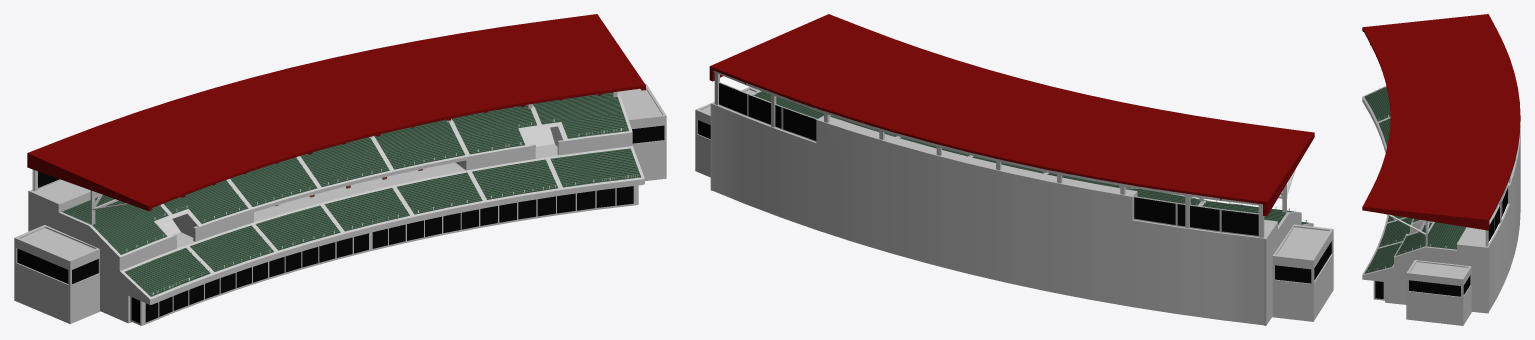
Rendered from Mini_stadium.fbx.
The picture shows the model from 3 angles, left to right: view 1: azimuth 30°, elevation 25°; view 2: azimuth 150°, elevation 25°; view 3: azimuth 270°, elevation 25°; orthographic projection. The views are drawn at different scales.
Visible parts, largest first — view 1: mini_stadium; view 2: mini_stadium; view 3: mini_stadium.
Boxes of the visible parts, <box> form: mini_stadium: <box>14,14,666,325</box>; mini_stadium: <box>695,14,1333,325</box>; mini_stadium: <box>1362,14,1520,325</box>.
Size of the model in its own units: 11644 by 2245 by 3407.
